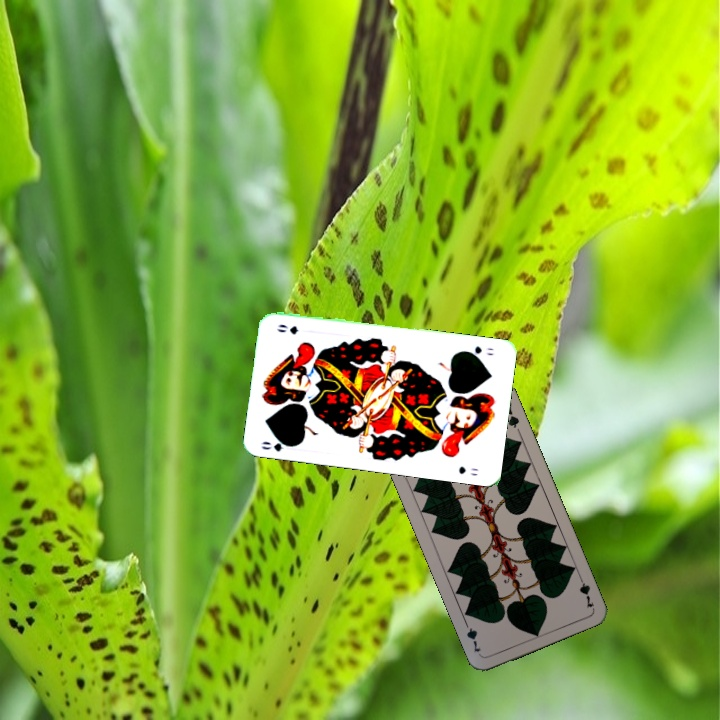G7: (574, 571, 596, 611)
GO: (257, 435, 298, 454), (460, 342, 496, 359)
